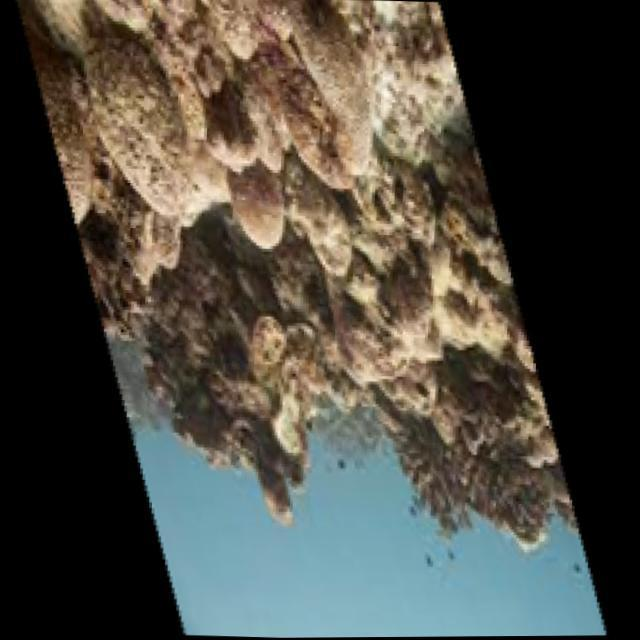Dead Coral: (49, 6, 396, 242), (112, 234, 353, 524), (316, 381, 570, 606), (300, 208, 490, 421)
